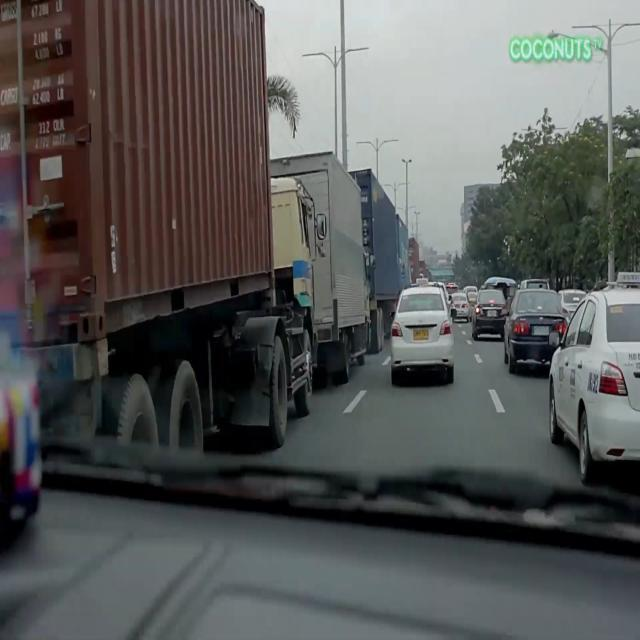truck: (0, 0, 328, 463), (266, 145, 374, 385), (351, 166, 404, 361)
